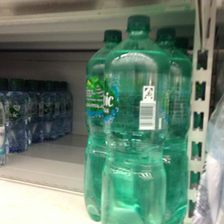water: (99, 15, 168, 224)
